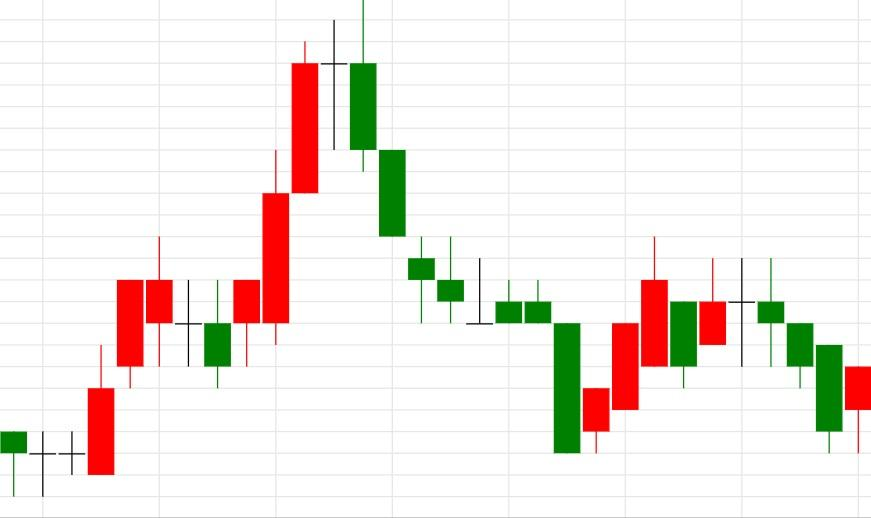evening_star_fall: (204, 0, 377, 389), (553, 237, 785, 454)
